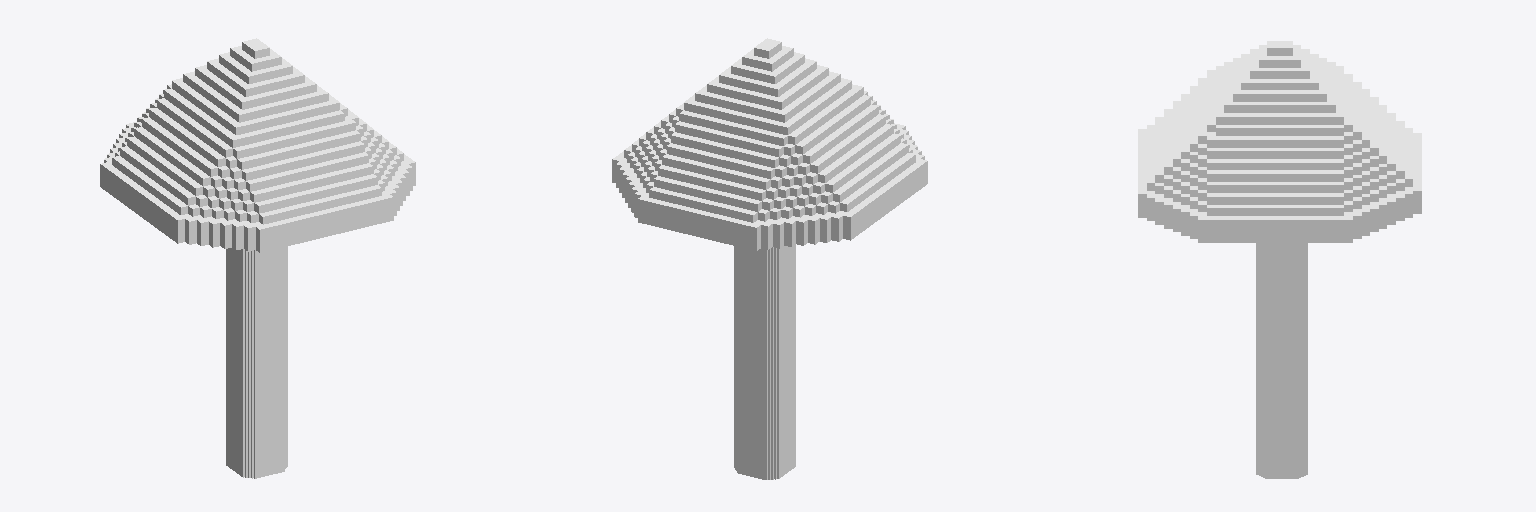
The model's file is TreeShroom.obj.
The picture shows the model from 3 angles: view 1: azimuth 30°, elevation 25°; view 2: azimuth 150°, elevation 25°; view 3: azimuth 270°, elevation 25°; orthographic projection.
Visible parts, largest first — view 1: object 1; view 2: object 1; view 3: object 1.
Part boxes in pixels (bbox=[...]): object 1: bbox=[100, 38, 415, 478]; object 1: bbox=[612, 38, 927, 479]; object 1: bbox=[1138, 41, 1421, 478].
Size of the model in its own units: 12.8 by 21.7 by 13.2.